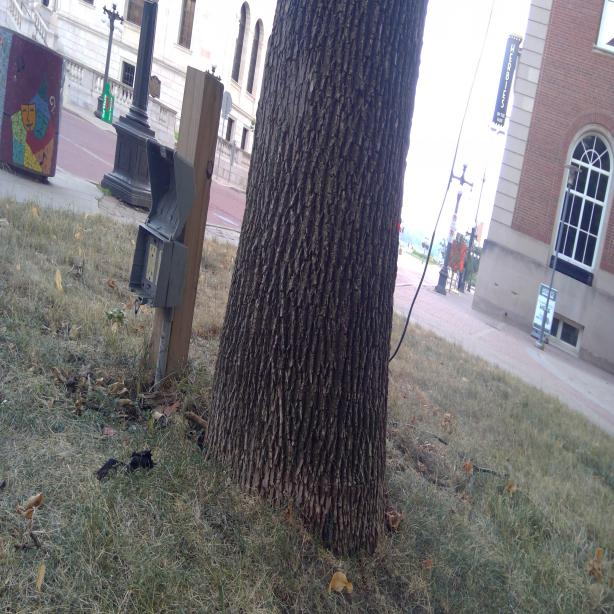typeb: (148, 242, 158, 261), (146, 268, 156, 284)
